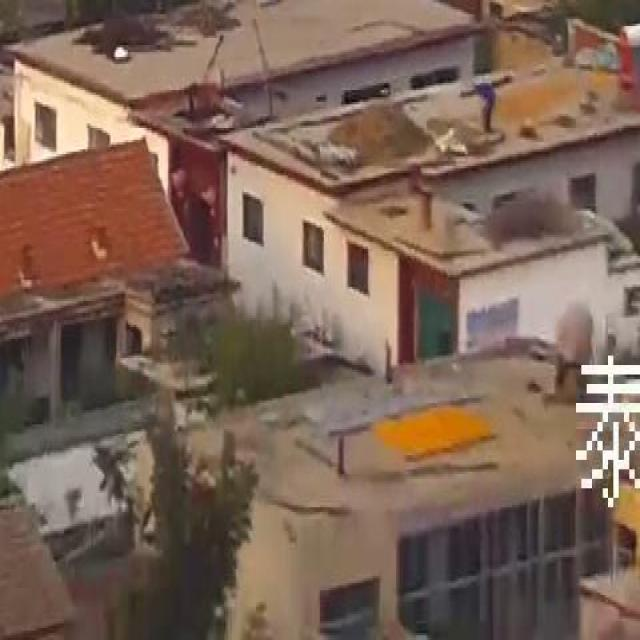other: (352, 385, 505, 465)
